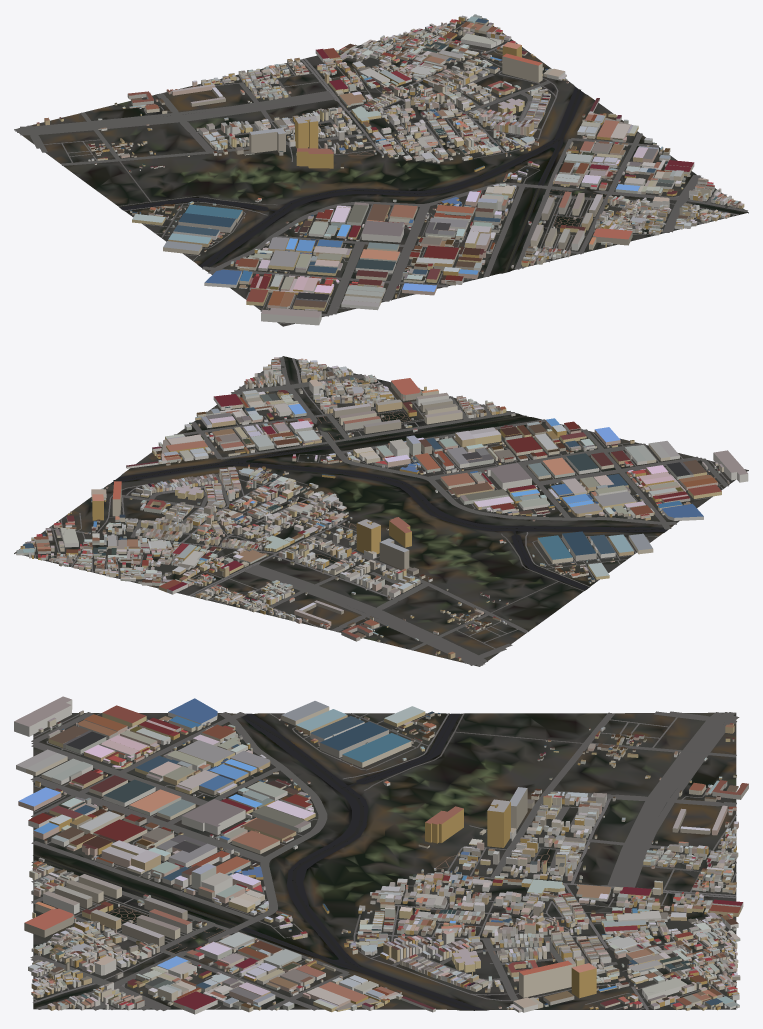
3 views of the same model, one above another, from view 1: azimuth 30°, elevation 25°; view 2: azimuth 150°, elevation 25°; view 3: azimuth 270°, elevation 25° (orthographic). The views are drawn at different scales.
Visible parts, largest first — view 1: buildings, ground, roads, water; view 2: buildings, ground, roads, water; view 3: buildings, ground, roads, water.
Boxes of the visible parts, x1=… form: buildings: x1=36, y1=14, x2=744, y2=325; ground: x1=14, y1=18, x2=748, y2=326; roads: x1=15, y1=21, x2=747, y2=324; water: x1=120, y1=87, x2=583, y2=272; buildings: x1=16, y1=357, x2=748, y2=660; ground: x1=14, y1=356, x2=748, y2=666; roads: x1=23, y1=357, x2=729, y2=666; water: x1=111, y1=415, x2=666, y2=589; buildings: x1=14, y1=696, x2=748, y2=1014; ground: x1=33, y1=712, x2=736, y2=1010; roads: x1=30, y1=711, x2=739, y2=1010; water: x1=33, y1=713, x2=484, y2=1010.
Bounding box in the file's own units: 1473 × 83.67 × 1464.
